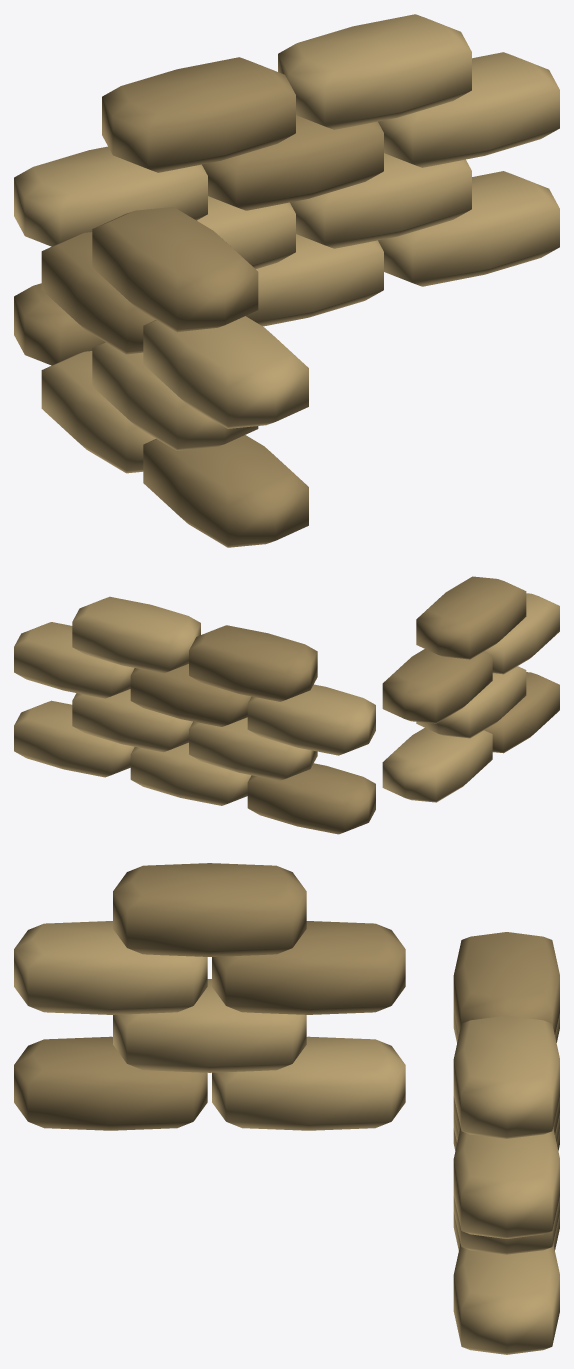
File: sandbag_corner.glb
The picture shows the model from 3 angles, top to bottom: view 1: azimuth 30°, elevation 25°; view 2: azimuth 150°, elevation 25°; view 3: azimuth 270°, elevation 25°; orthographic projection. The views are drawn at different scales.
Visible parts, largest first — view 1: sandbag_corner; view 2: sandbag_corner; view 3: sandbag_corner.
Part boxes in pixels (x1,y1,x2,y2): sandbag_corner: (14,14,559,547); sandbag_corner: (14,576,559,834); sandbag_corner: (14,863,559,1354).
Bounding box in the file's own units: 2.02 × 0.82 × 1.71.
